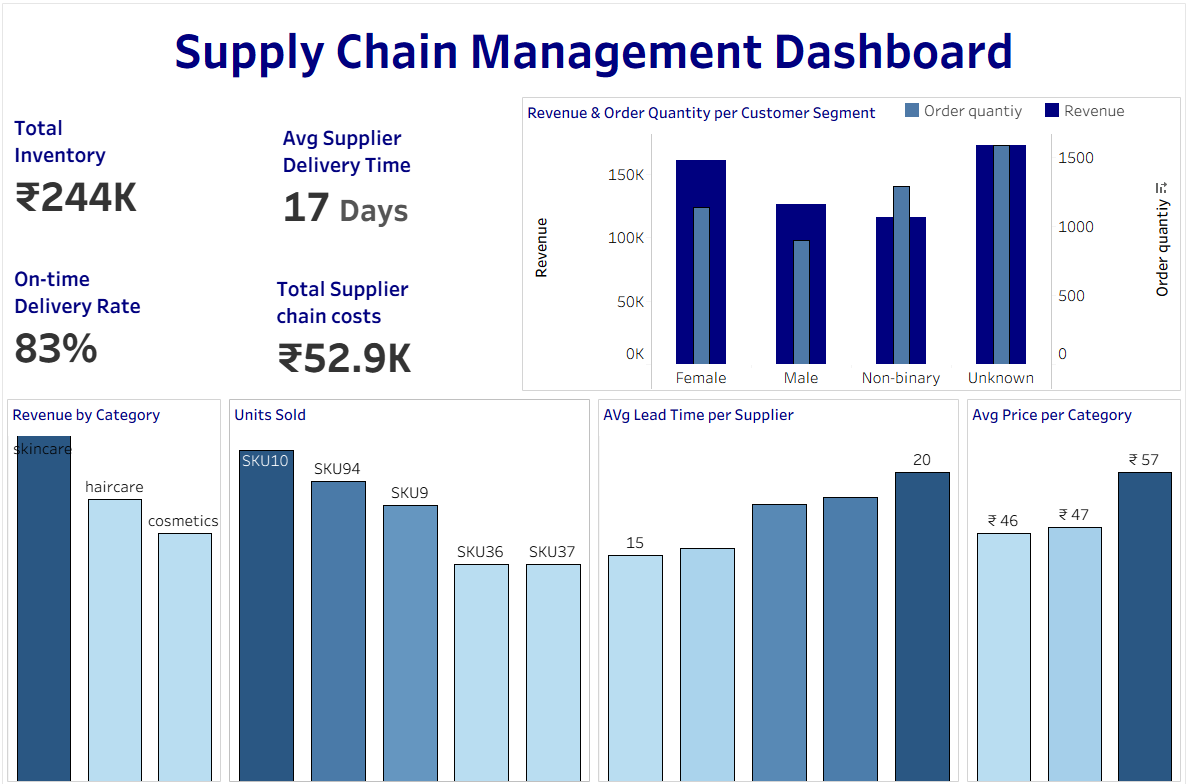

This screenshot's page, from the dashboard's own definition file:
{"tool":"tableau","page":{"name":"Dashboard 1","canvas":[1200,800],"ordinal":0},"visuals":[{"type":"text","box":[9,9,1182,88.8]},{"type":"worksheet","title":"Sheet 10","mark":"Bar","rows":["Revenue","Order_quantiy"],"cols":["Customer_segment"],"box":[524.1,97.8,666.9,302.2]},{"type":"worksheet","title":"Sheet 3","mark":"Automatic","box":[9,98,258,151]},{"type":"worksheet","title":"Sheet 5","mark":"Automatic","box":[267,98,257,172]},{"type":"legend","title":"Sheet 10","param":"[federated.0suchvs0gucwik15yev611not0ke].[:Measure Names]","box":[908,105,284,64]},{"type":"worksheet","title":"Sheet 4","mark":"Automatic","box":[9,249,258,151]},{"type":"worksheet","title":"Sheet 6","mark":"Automatic","box":[267,270,257,130]},{"type":"worksheet","title":"Sheet 1","mark":"Bar","rows":["Revenue"],"cols":["Product_category"],"box":[9,400,221.6,391]},{"type":"worksheet","title":"Sheet 2","mark":"Bar","rows":["Units_sold"],"cols":["Product_id"],"box":[230.6,400,369.4,391]},{"type":"worksheet","title":"Sheet 9","mark":"Automatic","rows":["Supplier_lead_time"],"cols":["Supplier_name"],"box":[600,400,369.4,391]},{"type":"worksheet","title":"Sheet 8","mark":"Bar","rows":["Unit_price"],"cols":["Product_category"],"box":[969.3,400,221.6,391]}]}

Visuals, with their boxes in screenshot pixels (x1, y1, x2, y2), scaled from the page's 1200x800 canvas onto the 1190x784 screenshot:
text: <bbox>9, 9, 1181, 96</bbox>
"Sheet 10" worksheet (Bar marks): <bbox>520, 96, 1181, 392</bbox>
"Sheet 3" worksheet: <bbox>9, 96, 265, 244</bbox>
"Sheet 5" worksheet: <bbox>265, 96, 520, 265</bbox>
"Sheet 10" legend: <bbox>900, 103, 1182, 166</bbox>
"Sheet 4" worksheet: <bbox>9, 244, 265, 392</bbox>
"Sheet 6" worksheet: <bbox>265, 265, 520, 392</bbox>
"Sheet 1" worksheet (Bar marks): <bbox>9, 392, 229, 775</bbox>
"Sheet 2" worksheet (Bar marks): <bbox>229, 392, 595, 775</bbox>
"Sheet 9" worksheet: <bbox>595, 392, 961, 775</bbox>
"Sheet 8" worksheet (Bar marks): <bbox>961, 392, 1181, 775</bbox>
